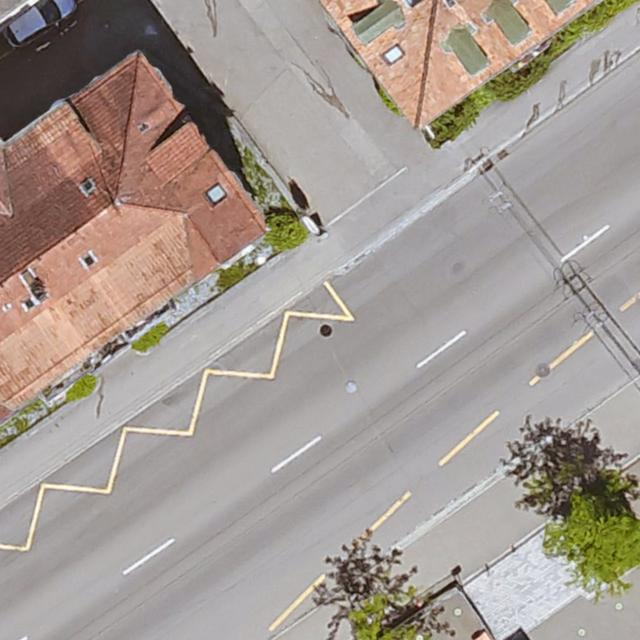tree: (557, 480, 640, 579), (349, 588, 439, 640)
